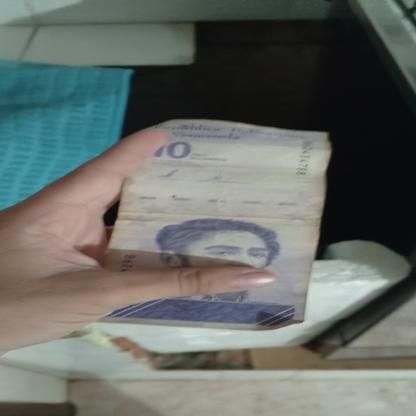vef_front: (90, 121, 330, 330)
